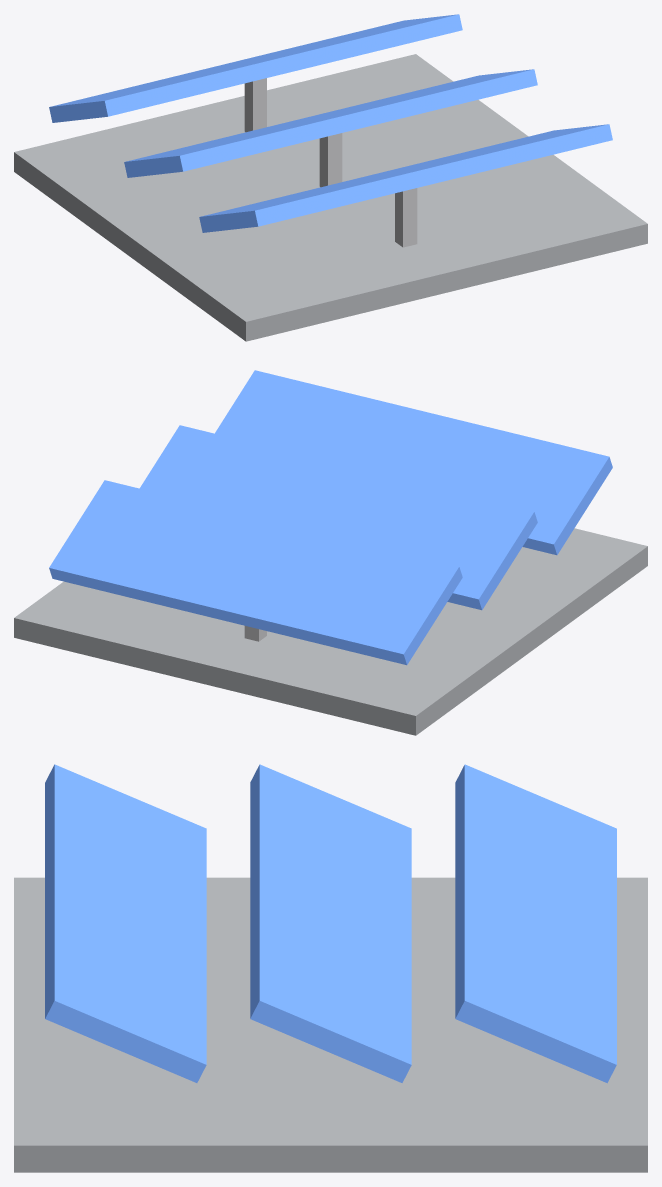
Rendered from solar.glb.
3 renders of one model, top to bottom at view 1: azimuth 30°, elevation 25°; view 2: azimuth 150°, elevation 25°; view 3: azimuth 270°, elevation 25°, orthographic. The views are drawn at different scales.
Parts seen in each view (by area): view 1: box.001, box.006, box.004, box.002, box, box.005, box.003; view 2: box.001, box.002, box.006, box.004; view 3: box.001, box.006, box.002, box.004.
Boxes of the visible parts, left/top/right/bottom form: box.001: left=14, top=54, right=647, bottom=341; box.006: left=199, top=124, right=612, bottom=232; box.004: left=124, top=69, right=537, bottom=177; box.002: left=49, top=14, right=462, bottom=122; box: left=395, top=188, right=417, bottom=247; box.005: left=319, top=133, right=342, bottom=187; box.003: left=244, top=78, right=266, bottom=132; box.001: left=14, top=528, right=647, bottom=735; box.002: left=49, top=480, right=462, bottom=665; box.006: left=215, top=370, right=612, bottom=555; box.004: left=139, top=425, right=537, bottom=610; box.001: left=14, top=877, right=647, bottom=1172; box.006: left=45, top=764, right=206, bottom=1082; box.002: left=455, top=764, right=616, bottom=1083; box.004: left=250, top=764, right=411, bottom=1082.
Size of the model in its own units: 1.7 by 0.4623 by 1.7.
